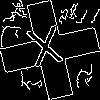X: (25, 25, 68, 77)
